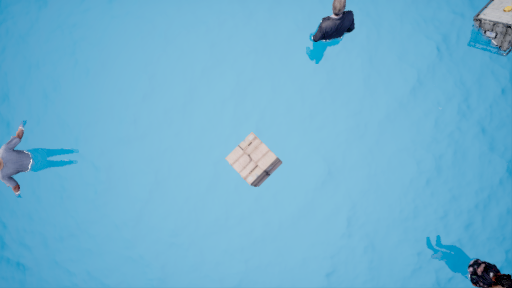person: (1, 122, 81, 192), (430, 239, 505, 287), (305, 2, 354, 64)
